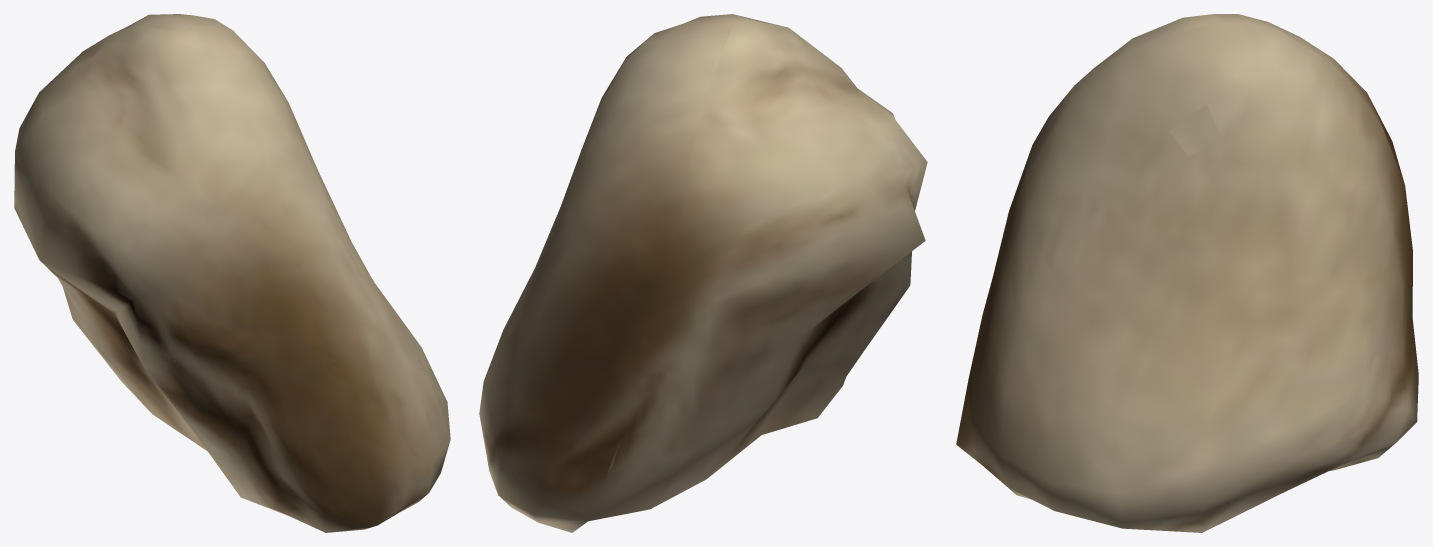
Rendered from Maxilary_Molar.glb.
3 renders of one model, left to right at view 1: azimuth 30°, elevation 25°; view 2: azimuth 150°, elevation 25°; view 3: azimuth 270°, elevation 25°, orthographic. The views are drawn at different scales.
Visible parts, largest first — view 1: Molar4; view 2: Molar4; view 3: Molar4.
Part boxes in pixels (x1,y1,x2,y2): Molar4: (14, 14, 450, 532); Molar4: (479, 14, 927, 532); Molar4: (956, 14, 1418, 532).
Bounding box in the file's own units: 0.019 × 0.0214 × 0.0209.
Materials: 1 (1 with a texture image).
